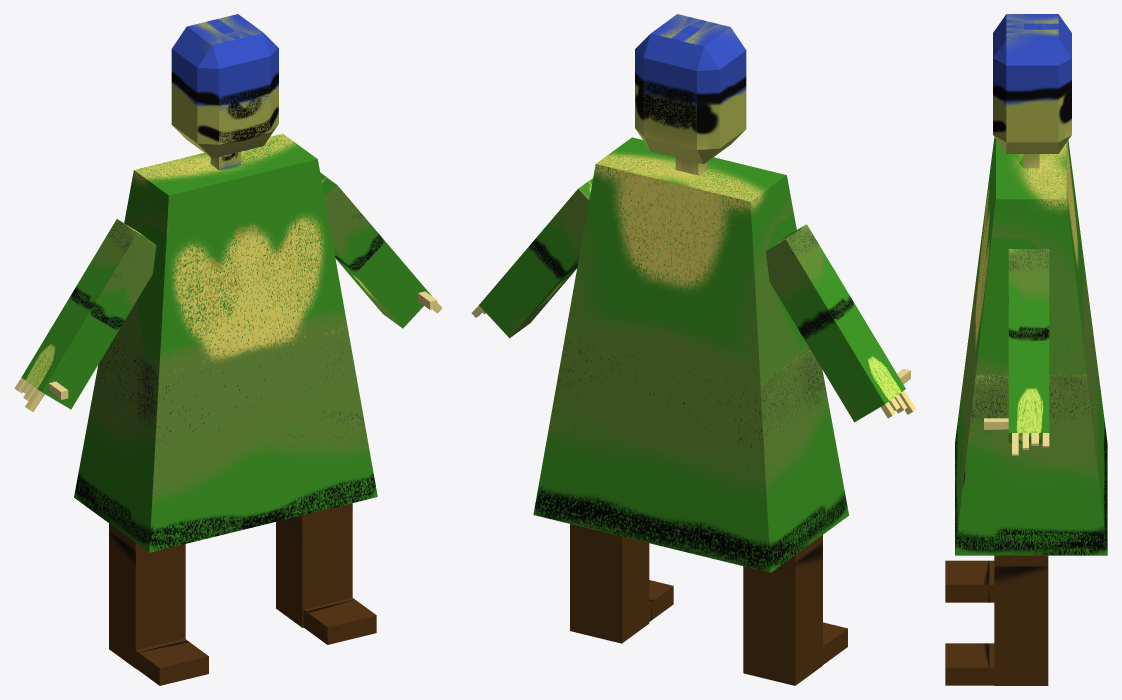
Rendered from character.obj.
3 views of the same model, side by side, from view 1: azimuth 30°, elevation 25°; view 2: azimuth 150°, elevation 25°; view 3: azimuth 270°, elevation 25° (orthographic). The views are drawn at different scales.
Visible parts, largest first — view 1: Cube; view 2: Cube; view 3: Cube.
Boxes of the visible parts, left/top/right/bottom form: Cube: left=14, top=14, right=442, bottom=685; Cube: left=471, top=14, right=916, bottom=685; Cube: left=945, top=14, right=1107, bottom=685.
Size of the model in its own units: 2.61 by 3.6 by 0.8727.
